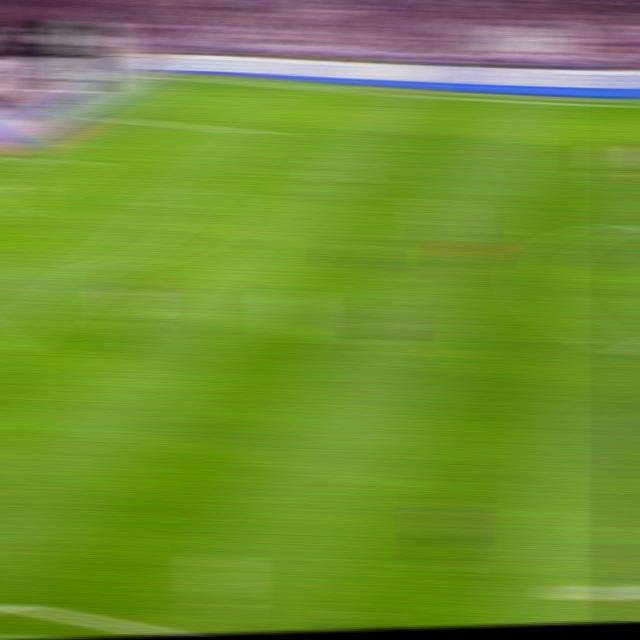bigarea_top_inner: (246, 125, 277, 141)
bigarea_top_outter: (82, 108, 114, 121)
bottom_arc_area_intersection: (87, 256, 122, 275)
corner: (150, 70, 182, 80)
smallarea_top_inner: (68, 157, 98, 170)
top_arc_area_intersection: (185, 177, 217, 193)
